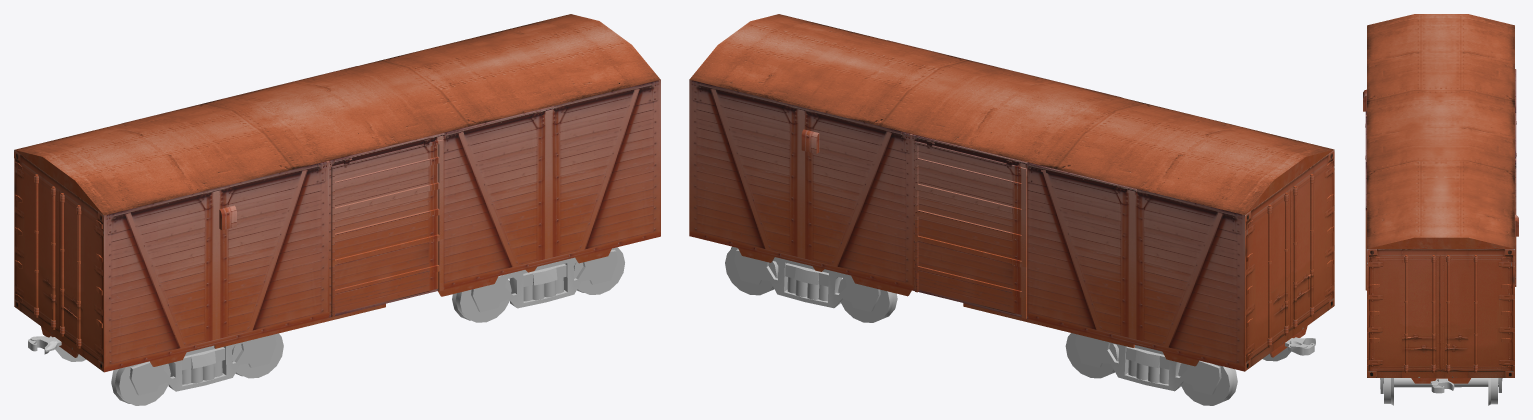
The model's file is TrainBoxCar02.FBX.
The picture shows the model from 3 angles, left to right: view 1: azimuth 30°, elevation 25°; view 2: azimuth 150°, elevation 25°; view 3: azimuth 270°, elevation 25°; orthographic projection. The views are drawn at different scales.
Parts seen in each view (by area): view 1: TrainBoxCar02, TrainBoxCar02Wheels; view 2: TrainBoxCar02, TrainBoxCar02Wheels; view 3: TrainBoxCar02, TrainBoxCar02Wheels, TrainBoxCar02Detail.
Part boxes in pixels (bbox=[...]): TrainBoxCar02: bbox=[14, 14, 660, 372]; TrainBoxCar02Wheels: bbox=[55, 247, 624, 405]; TrainBoxCar02: bbox=[689, 14, 1334, 371]; TrainBoxCar02Wheels: bbox=[725, 246, 1291, 405]; TrainBoxCar02: bbox=[1363, 14, 1518, 383]; TrainBoxCar02Wheels: bbox=[1380, 378, 1502, 405]; TrainBoxCar02Detail: bbox=[1430, 378, 1454, 393].
Bounding box in the file's own units: 664 × 236 × 179.
